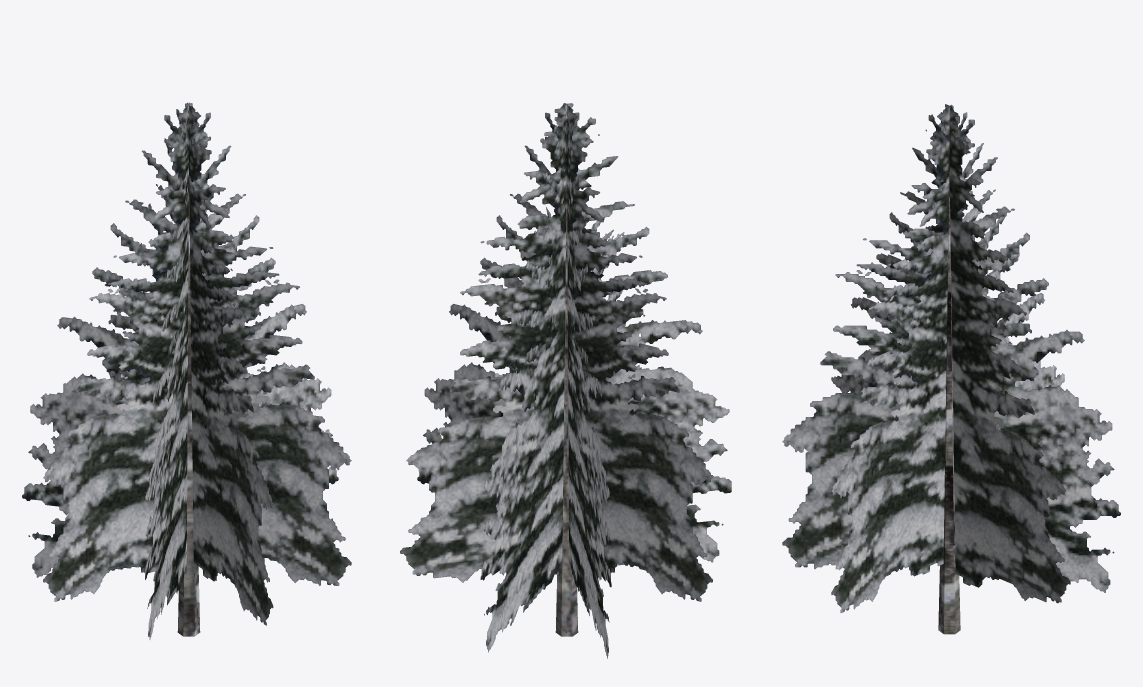
Rendered from SpruceTree1.fbx.
The picture shows the model from 3 angles, left to right: view 1: azimuth 30°, elevation 25°; view 2: azimuth 150°, elevation 25°; view 3: azimuth 270°, elevation 25°; orthographic projection.
Visible parts, largest first — view 1: WholeSpruceTree1; view 2: WholeSpruceTree1; view 3: WholeSpruceTree1.
Boxes of the visible parts, x1=… form: WholeSpruceTree1: x1=22, y1=102, x2=351, y2=639; WholeSpruceTree1: x1=400, y1=103, x2=731, y2=658; WholeSpruceTree1: x1=782, y1=104, x2=1120, y2=634.
Size of the model in its own units: 1380 by 2295 by 1380.
